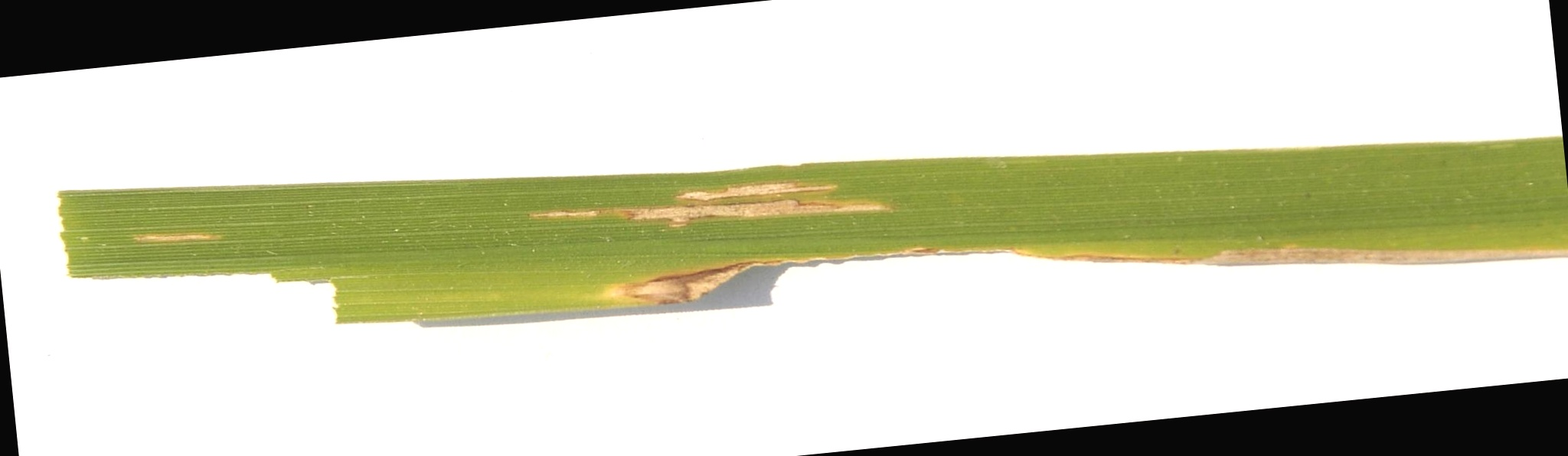Leaf_Blast: (465, 145, 935, 232), (85, 201, 260, 256)
